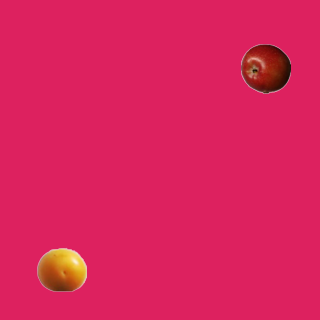Apple Braeburn: (240, 43, 290, 93)
Cherry Wax Yellow: (36, 244, 86, 294)
